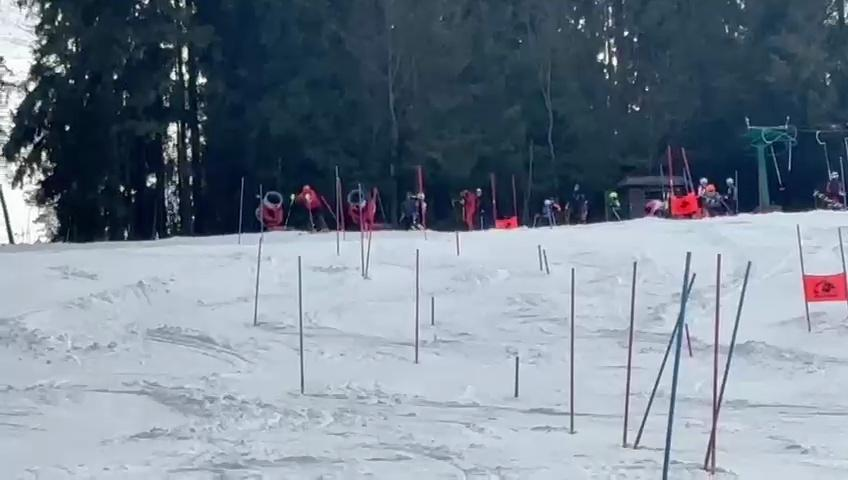gate: (619, 250, 698, 451), (705, 243, 765, 480), (659, 236, 693, 480), (617, 250, 639, 465), (787, 214, 822, 336), (290, 254, 315, 398), (563, 265, 581, 440), (680, 140, 717, 218), (352, 183, 382, 279), (403, 246, 423, 366), (246, 237, 268, 327), (413, 162, 435, 241), (831, 219, 848, 321), (658, 147, 675, 222), (330, 177, 346, 252), (229, 175, 246, 245), (503, 343, 523, 399), (509, 173, 525, 225), (487, 166, 499, 233), (535, 242, 552, 278), (446, 234, 467, 262)
